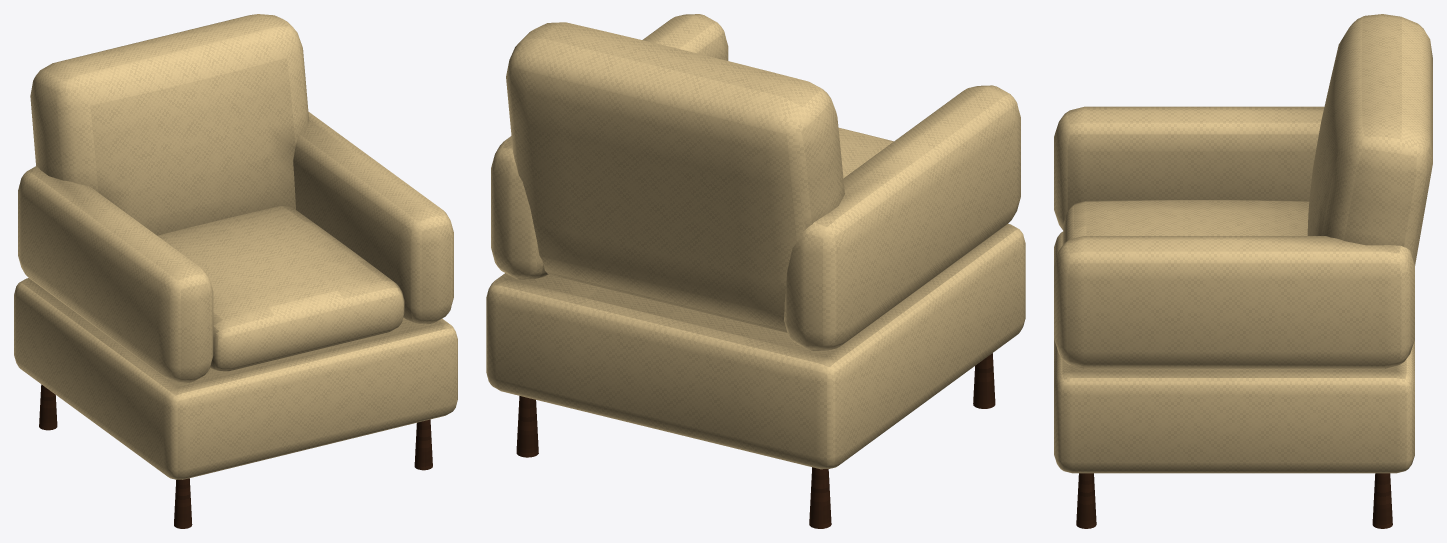
File: armchair.glb
3 renders of one model, left to right at view 1: azimuth 30°, elevation 25°; view 2: azimuth 150°, elevation 25°; view 3: azimuth 270°, elevation 25°, orthographic. The views are drawn at different scales.
Visible parts, largest first — view 1: body; view 2: body; view 3: body.
Part boxes in pixels (bbox=[...]): body: bbox=[14, 14, 457, 528]; body: bbox=[486, 14, 1025, 528]; body: bbox=[1054, 14, 1432, 528].
Size of what is drawn, in the model's own units: 0.8 by 0.9298 by 0.8185.
Materials: 2 (2 with a texture image).
